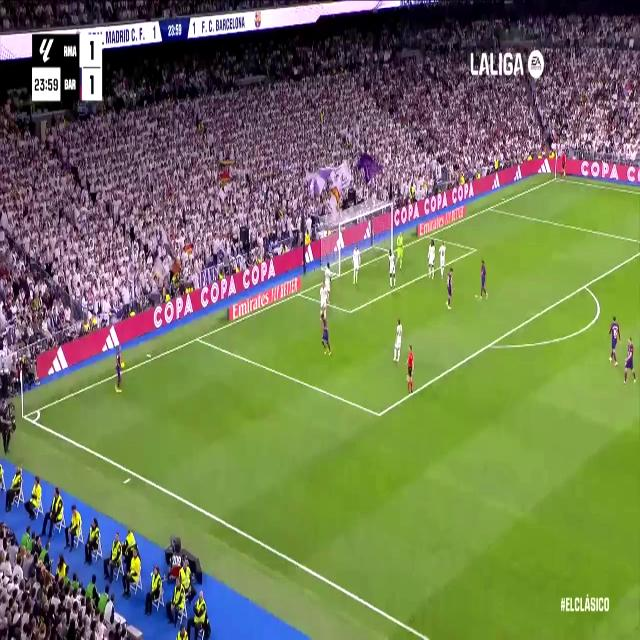bigarea_bottom_inner: (374, 402, 384, 426)
bottom_arc_area_intersection: (485, 335, 495, 353)
corner: (552, 172, 560, 182)
smallarea_bottom_inner: (346, 302, 354, 320)
smallarea_bottom_outter: (296, 285, 304, 300)
smallarea_top_inner: (472, 244, 477, 254)
top_arc_area_intersection: (580, 277, 590, 294)
